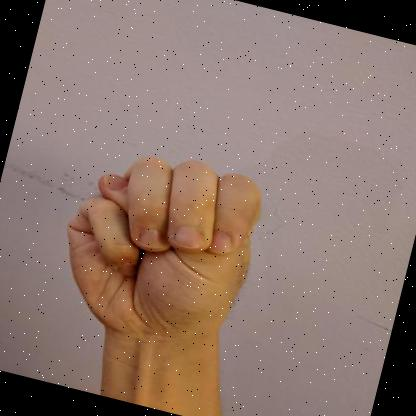M: (67, 157, 261, 359)
